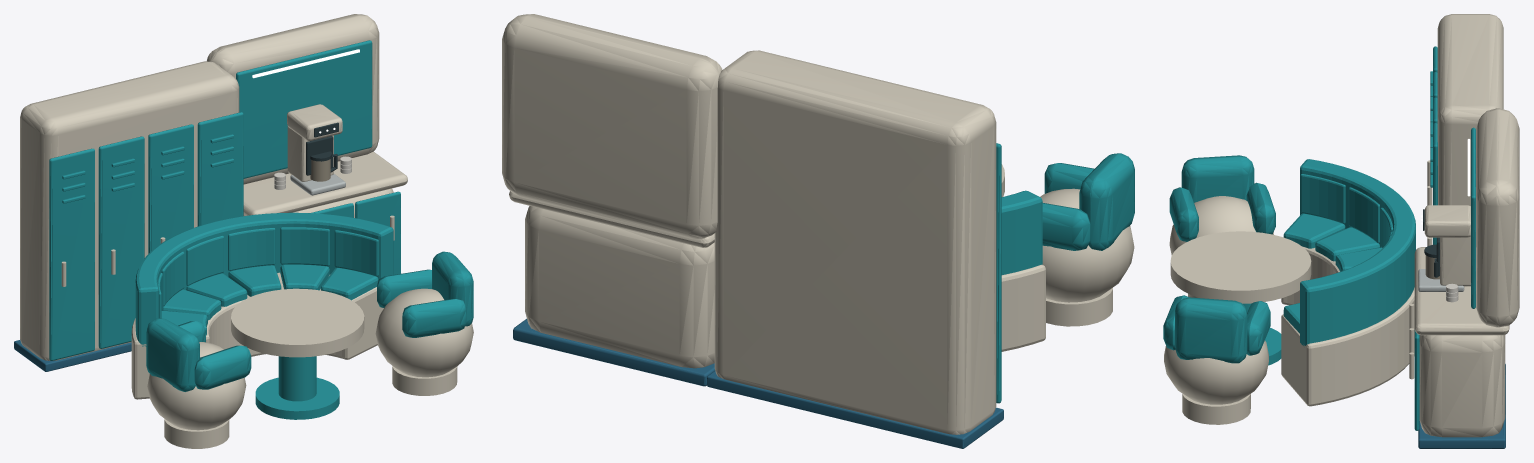
File: 11_lounge_advanced_assembly.glb
The picture shows the model from 3 angles, left to right: view 1: azimuth 30°, elevation 25°; view 2: azimuth 150°, elevation 25°; view 3: azimuth 270°, elevation 25°; orthographic projection. The views are drawn at different scales.
Visible parts, largest first — view 1: 11_advanced_lockers__Static, 11_advanced_coffee_counter__Static, 11_advanced_curved_banquette__Static, 11_advanced_round_table__Static, 11_advanced_lounge_chair_right__Static, 11_advanced_lounge_chair_left__Static, 11_advanced_coffee_machine__Static; view 2: 11_advanced_lockers__Static, 11_advanced_coffee_counter__Static, 11_advanced_lounge_chair_left__Static, 11_advanced_curved_banquette__Static; view 3: 11_advanced_curved_banquette__Static, 11_advanced_coffee_counter__Static, 11_advanced_lounge_chair_right__Static, 11_advanced_lockers__Static, 11_advanced_round_table__Static, 11_advanced_lounge_chair_left__Static, 11_advanced_coffee_machine__Static.
Part boxes in pixels (<box>): 11_advanced_lockers__Static: <box>14,61,243,371</box>; 11_advanced_coffee_counter__Static: <box>207,14,407,274</box>; 11_advanced_curved_banquette__Static: <box>131,212,393,399</box>; 11_advanced_round_table__Static: <box>231,288,364,419</box>; 11_advanced_lounge_chair_right__Static: <box>375,251,473,395</box>; 11_advanced_lounge_chair_left__Static: <box>146,318,251,448</box>; 11_advanced_coffee_machine__Static: <box>274,104,351,195</box>; 11_advanced_lockers__Static: <box>707,50,1003,448</box>; 11_advanced_coffee_counter__Static: <box>502,14,722,386</box>; 11_advanced_lounge_chair_left__Static: <box>1040,153,1134,326</box>; 11_advanced_curved_banquette__Static: <box>1001,190,1045,351</box>; 11_advanced_curved_banquette__Static: <box>1281,159,1415,406</box>; 11_advanced_coffee_counter__Static: <box>1409,108,1519,448</box>; 11_advanced_lounge_chair_right__Static: <box>1163,295,1270,424</box>; 11_advanced_lockers__Static: <box>1427,14,1503,246</box>; 11_advanced_round_table__Static: <box>1170,231,1311,365</box>; 11_advanced_lounge_chair_left__Static: <box>1169,155,1275,297</box>; 11_advanced_coffee_machine__Static: <box>1418,205,1470,302</box>.
Bounding box in the file's own units: 3.05 × 2.05 × 2.48.
